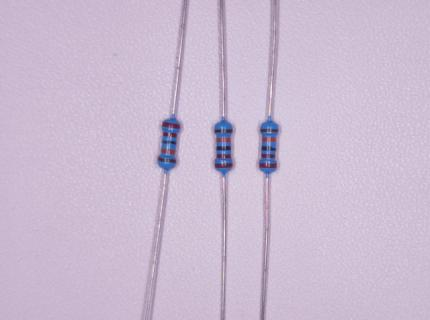Black band: (216, 146, 231, 151), (162, 140, 177, 145), (262, 146, 276, 151)
Brown band: (158, 157, 176, 163), (215, 129, 233, 133), (260, 128, 278, 132)
Orange band: (161, 148, 175, 155), (262, 137, 276, 142), (216, 137, 230, 142)
Red band: (162, 121, 180, 129), (214, 163, 233, 168), (163, 132, 178, 138), (259, 163, 277, 168), (216, 154, 231, 158), (261, 154, 275, 158)
